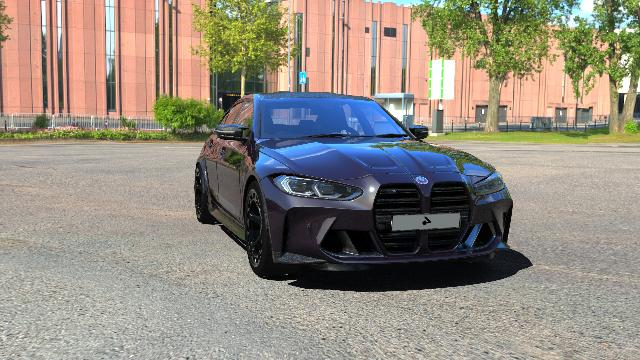License Plate: (392, 213, 460, 231)
